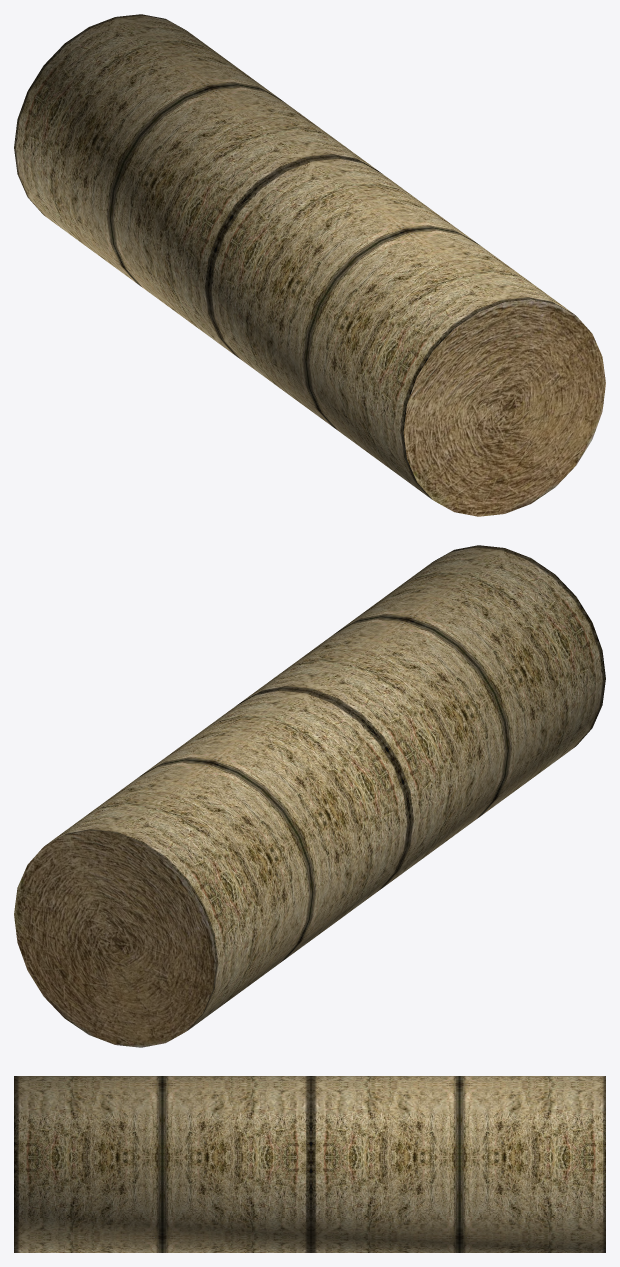
Rendered from hay-bale-straw-1x4-cbj_LOD00.gltf.
The picture shows the model from 3 angles, top to bottom: view 1: azimuth 30°, elevation 25°; view 2: azimuth 150°, elevation 25°; view 3: azimuth 270°, elevation 25°; orthographic projection. The views are drawn at different scales.
Parts seen in each view (by area): view 1: Cube; view 2: Cube; view 3: Cube.
Part boxes in pixels (left/top/right/bottom): Cube: left=14, top=14, right=605, bottom=516; Cube: left=14, top=545, right=605, bottom=1047; Cube: left=14, top=1076, right=605, bottom=1252.
Bounding box in the file's own units: 1.8 × 1.8 × 6.
